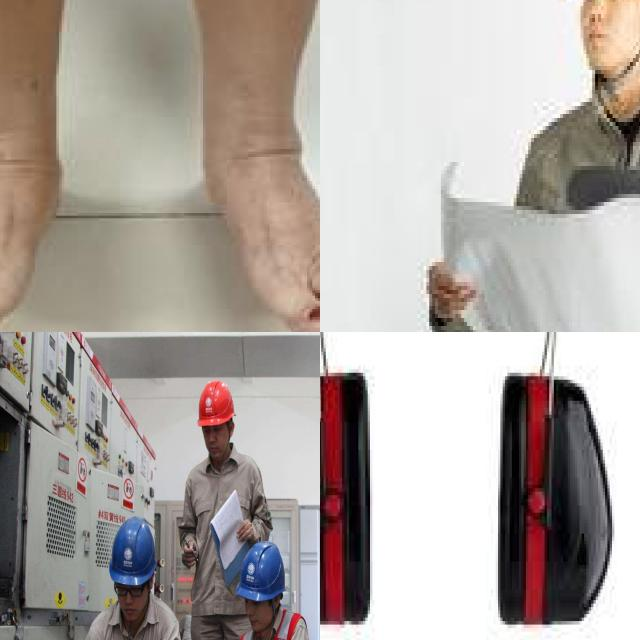Barefoots: (206, 108, 320, 332), (0, 121, 97, 332)
Ear-protection: (320, 332, 624, 622)
No_Ear-Protection: (577, 0, 640, 80)
face_nomask: (114, 575, 146, 621), (243, 593, 275, 630), (202, 422, 230, 461)
glasses: (112, 582, 146, 602)
hand_noglove: (180, 539, 201, 573), (235, 515, 254, 550)
head_helmet: (109, 516, 155, 585), (243, 540, 284, 602), (195, 378, 237, 425)
person: (181, 364, 242, 640), (78, 522, 182, 640), (217, 540, 291, 640)
vest: (237, 612, 304, 640)
